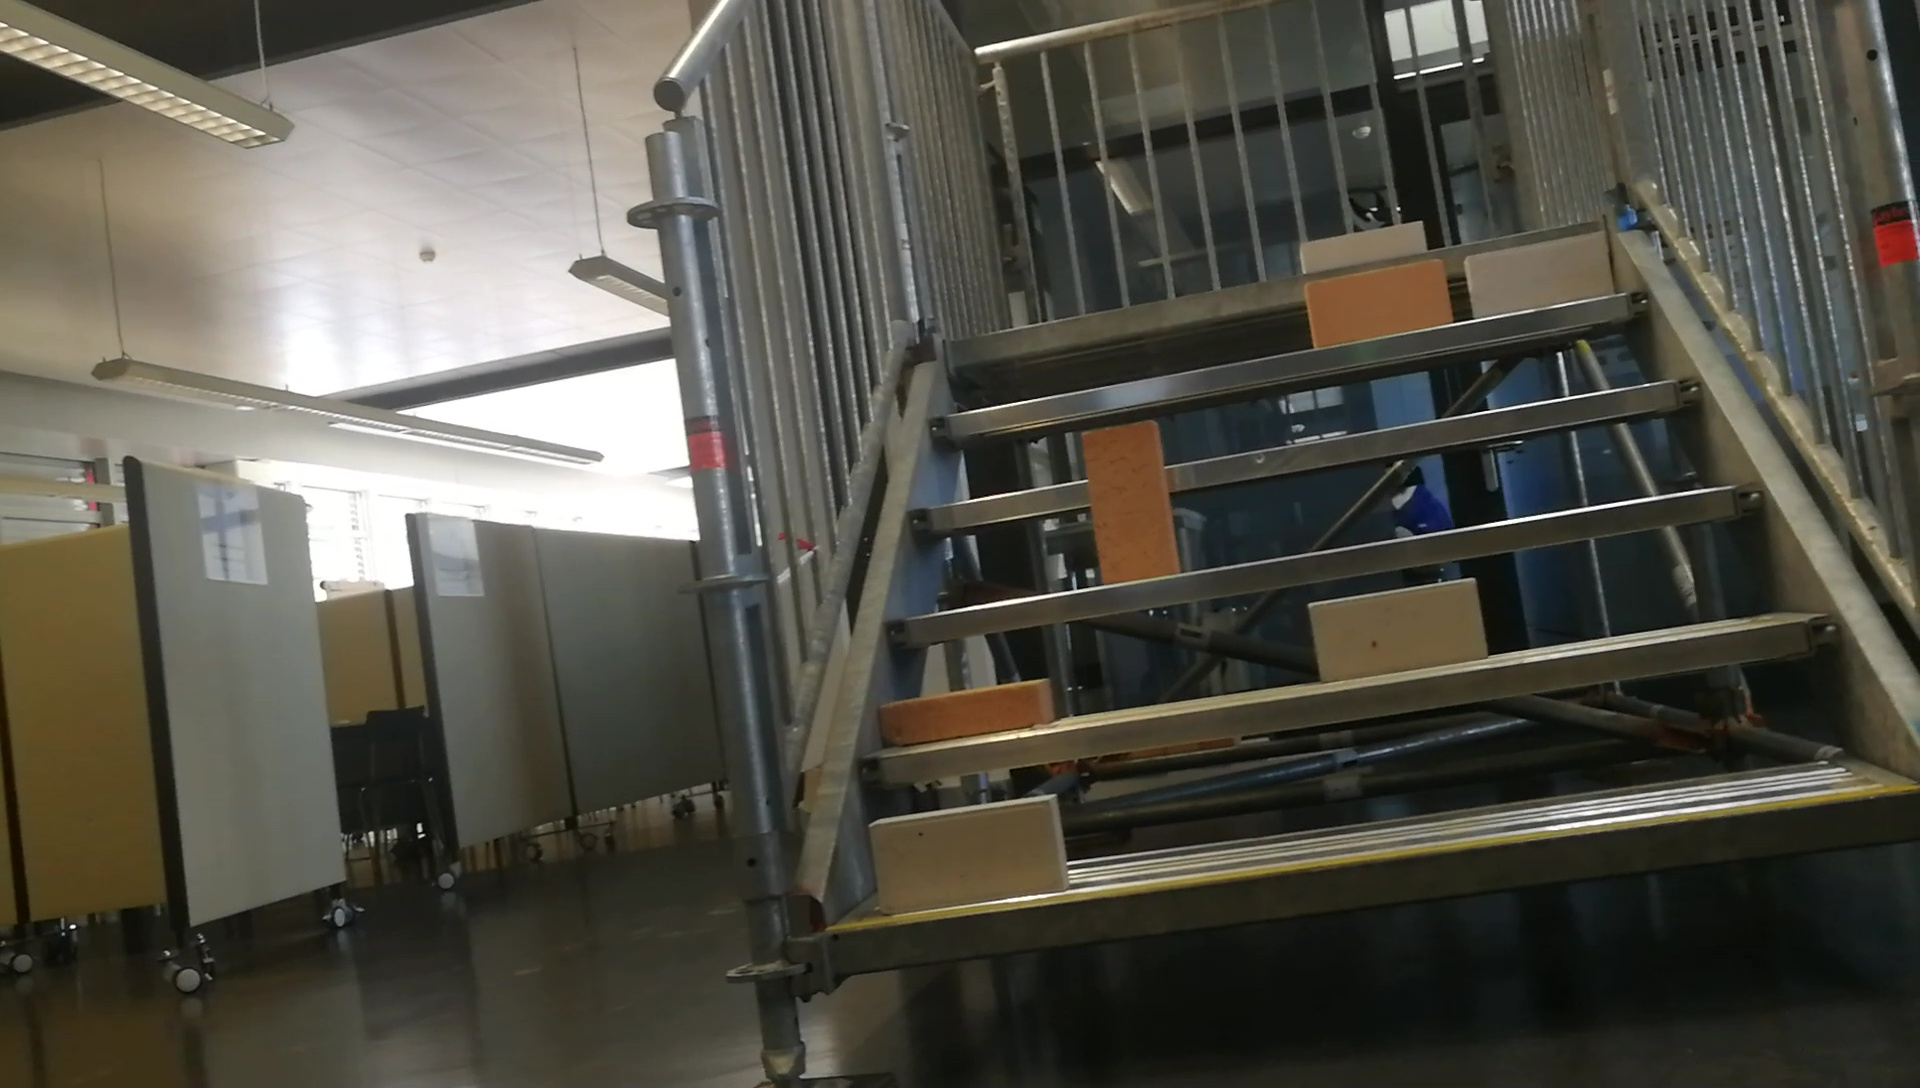brick: (866, 795, 1068, 910), (1311, 578, 1487, 684), (1080, 425, 1182, 583), (1302, 262, 1449, 346), (1468, 232, 1610, 313), (877, 680, 1047, 742), (1300, 218, 1423, 270)
edge: (832, 789, 1917, 969), (865, 613, 1834, 781), (890, 483, 1763, 638), (905, 380, 1697, 535), (932, 291, 1650, 443)
stairs: (622, 5, 1920, 1088)
steps: (793, 196, 1917, 1001)
